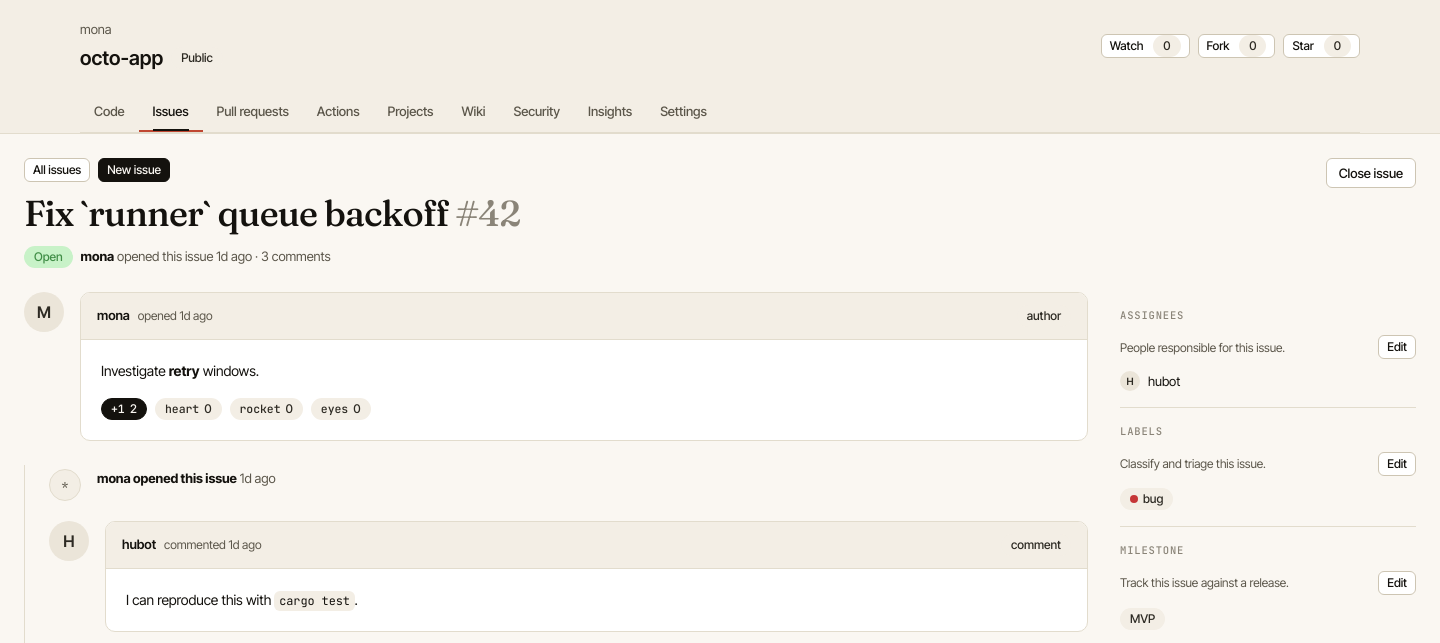
Test: RepositoryIssueDetailPage › updates metadata through live sidebar controls
Expected: the element "Labels" is shown, [1120, 408, 1416, 527]
Click the button "Edit" next to "Classify and triage this issue." at (1397, 464), box [1378, 452, 1416, 476]
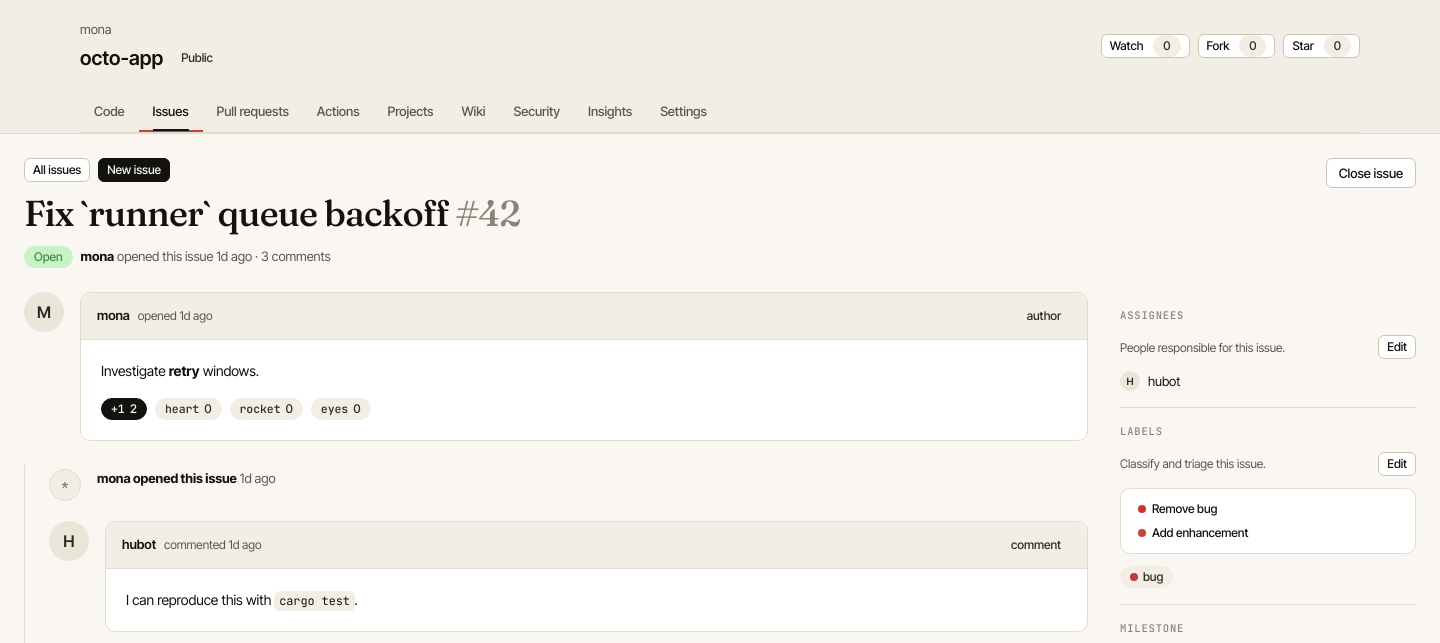
Click the button "Add enhancement" at (1212, 533), box [1129, 521, 1407, 545]
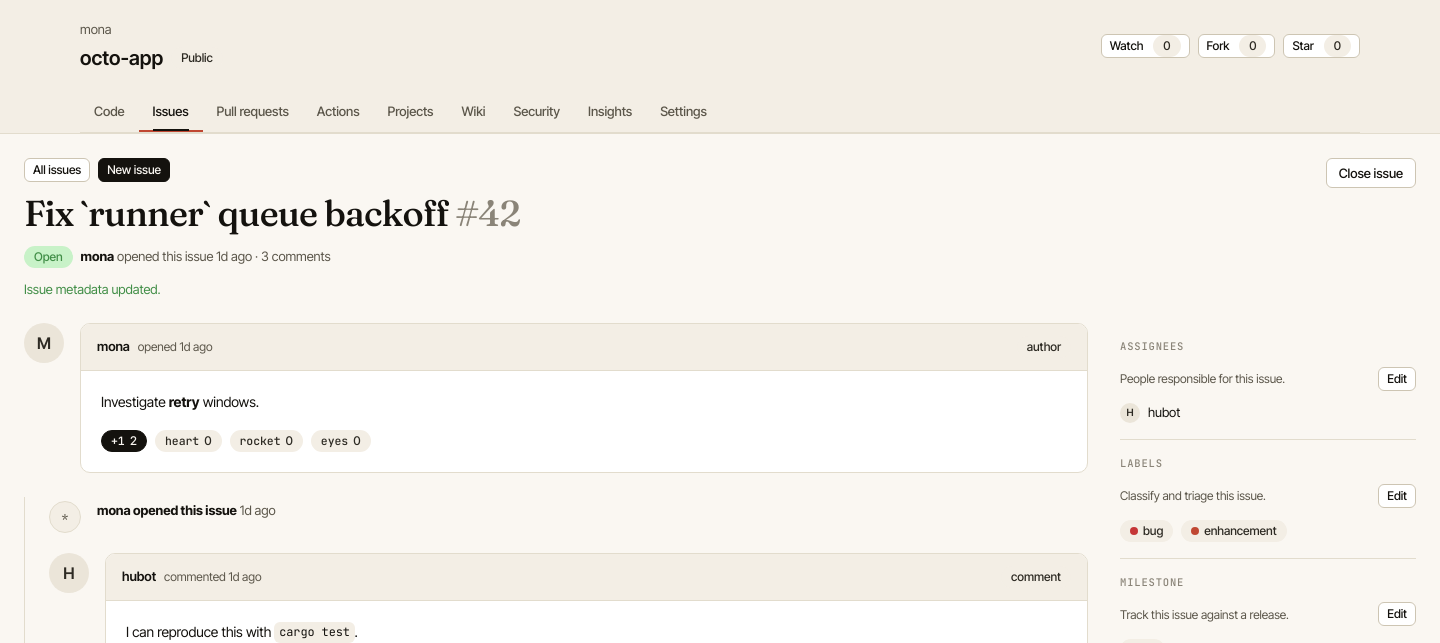
Now the text "enhancement" is shown, box [1181, 520, 1286, 542]
Now the text "Issue metadata updated." is shown, box [24, 281, 160, 297]
